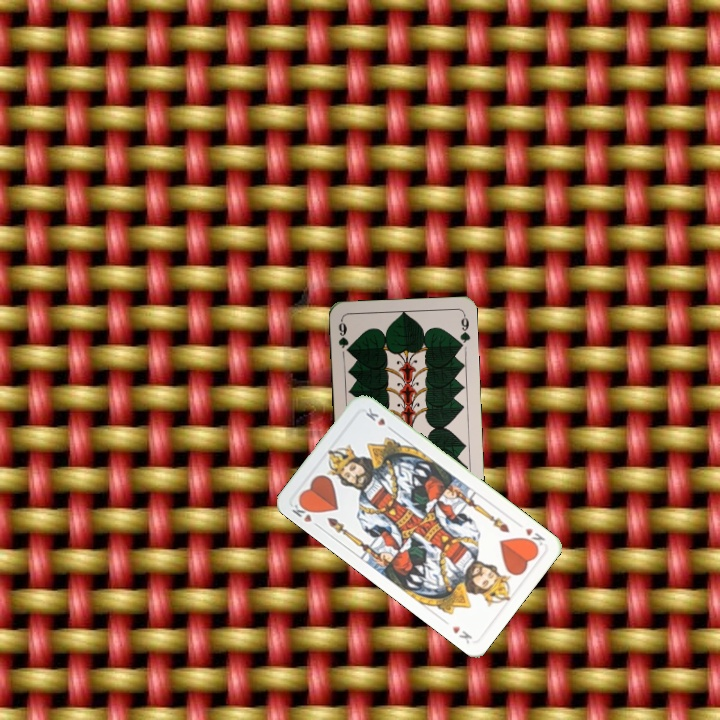G9: (334, 316, 353, 356)
HK: (288, 496, 323, 531), (519, 524, 548, 551)
